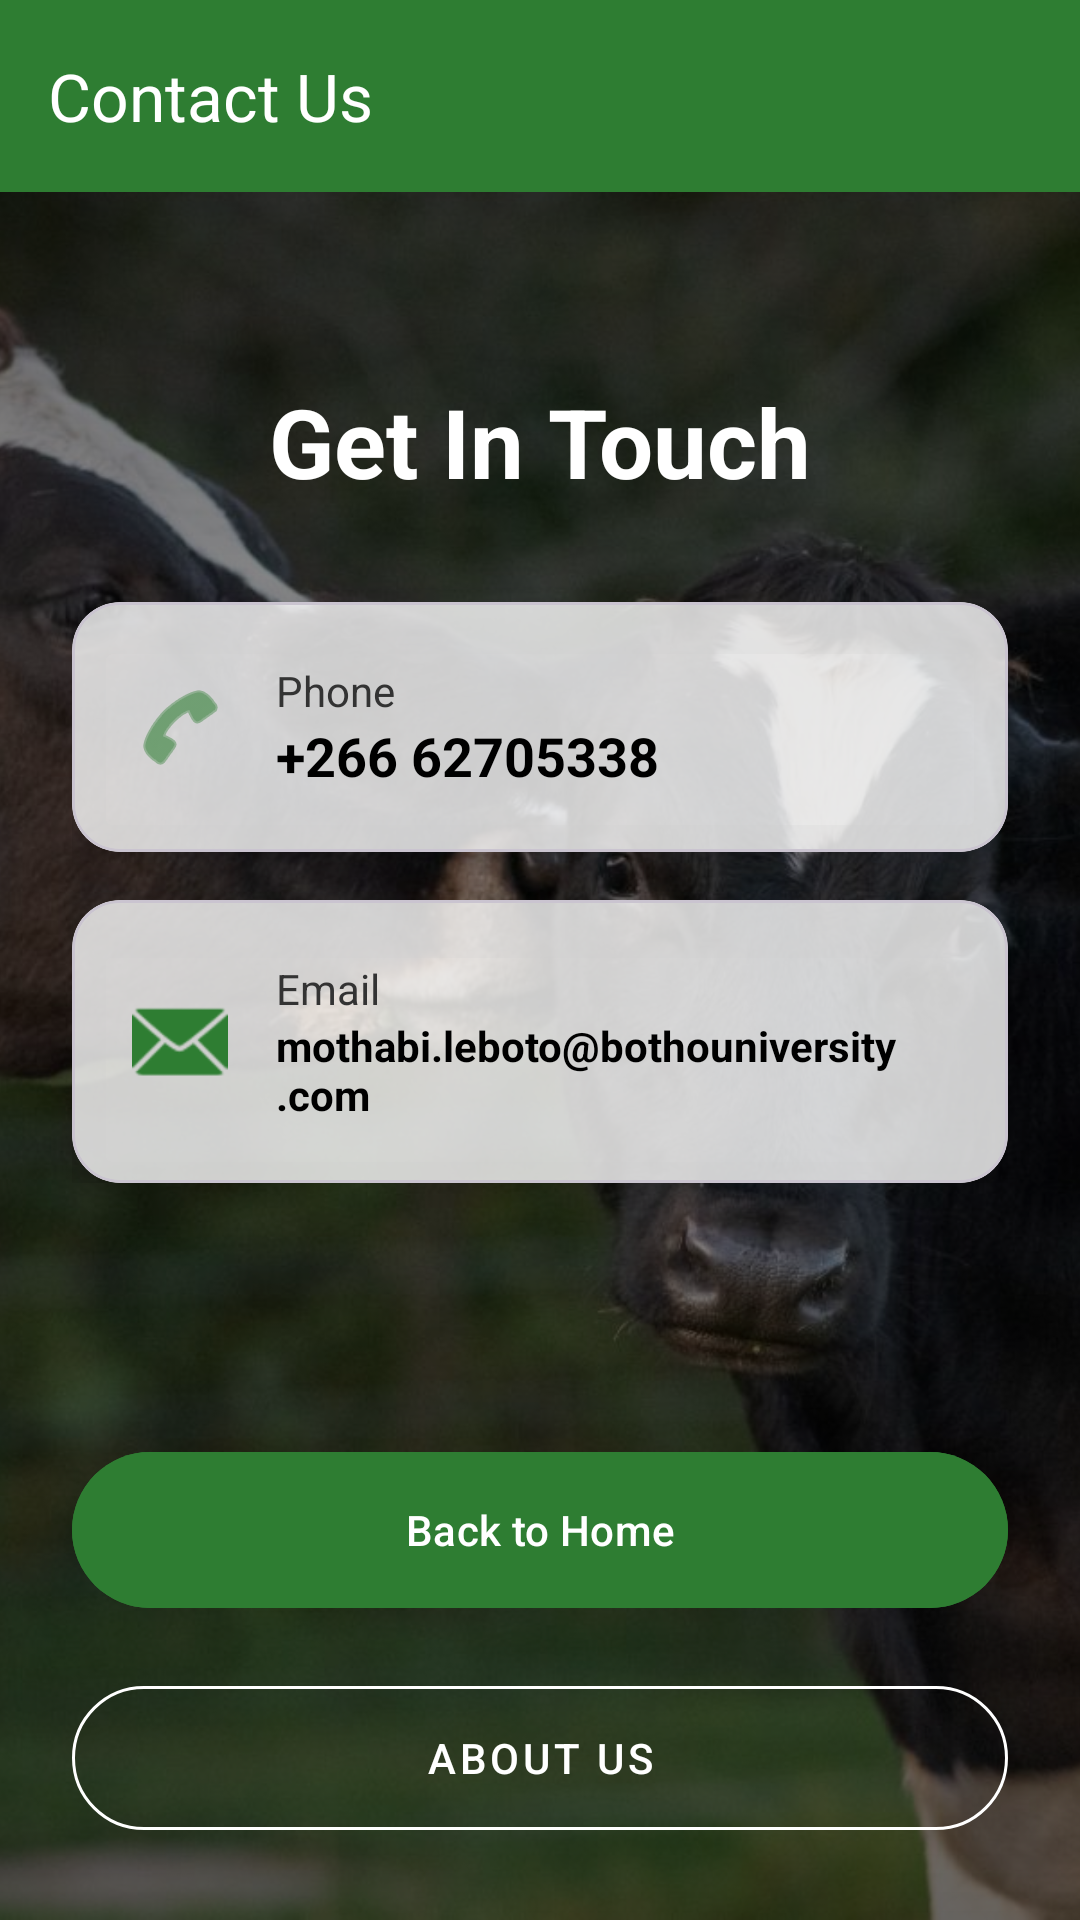

Point at icon controls on the screen. Image size 1080×1920, points as (x=x, y=y).
call: (x=180, y=727)
